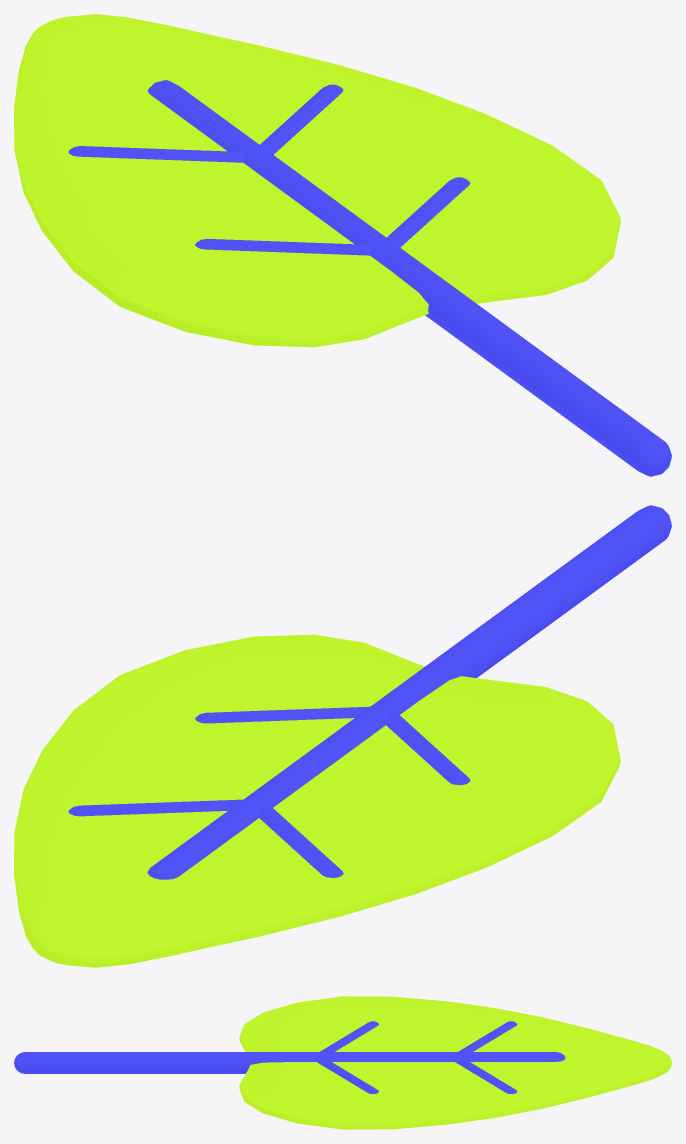
The model's file is ficus.fbx.
3 renders of one model, top to bottom at view 1: azimuth 30°, elevation 25°; view 2: azimuth 150°, elevation 25°; view 3: azimuth 270°, elevation 25°, orthographic. The views are drawn at different scales.
Visible parts, largest first — view 1: Ficus_Leaf, Stängel; view 2: Ficus_Leaf, Stängel; view 3: Ficus_Leaf, Stängel.
Boxes of the visible parts, <box> form: Ficus_Leaf: <box>14,14,620,347</box>; Stängel: <box>68,80,671,476</box>; Ficus_Leaf: <box>14,634,620,967</box>; Stängel: <box>68,505,671,879</box>; Ficus_Leaf: <box>239,996,671,1129</box>; Stängel: <box>14,1021,565,1093</box>.
Bounding box in the file's own units: 2.75 × 0.1902 × 5.95.
